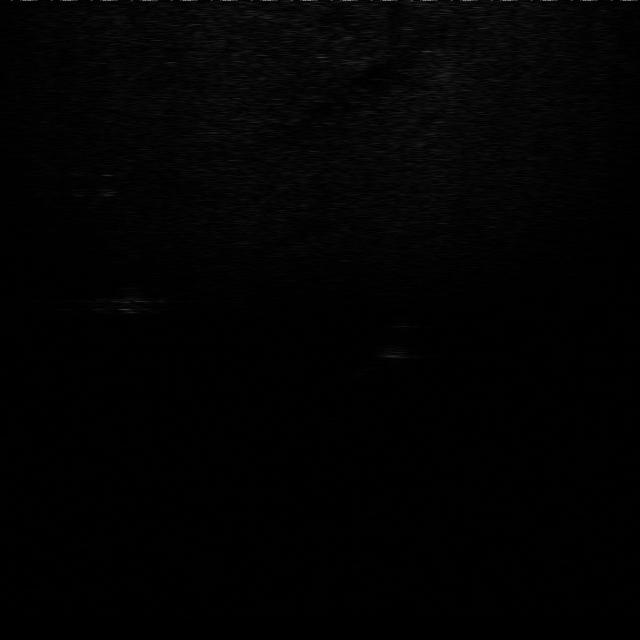circle cage: (79, 284, 171, 318)
tyre: (365, 322, 426, 359)
